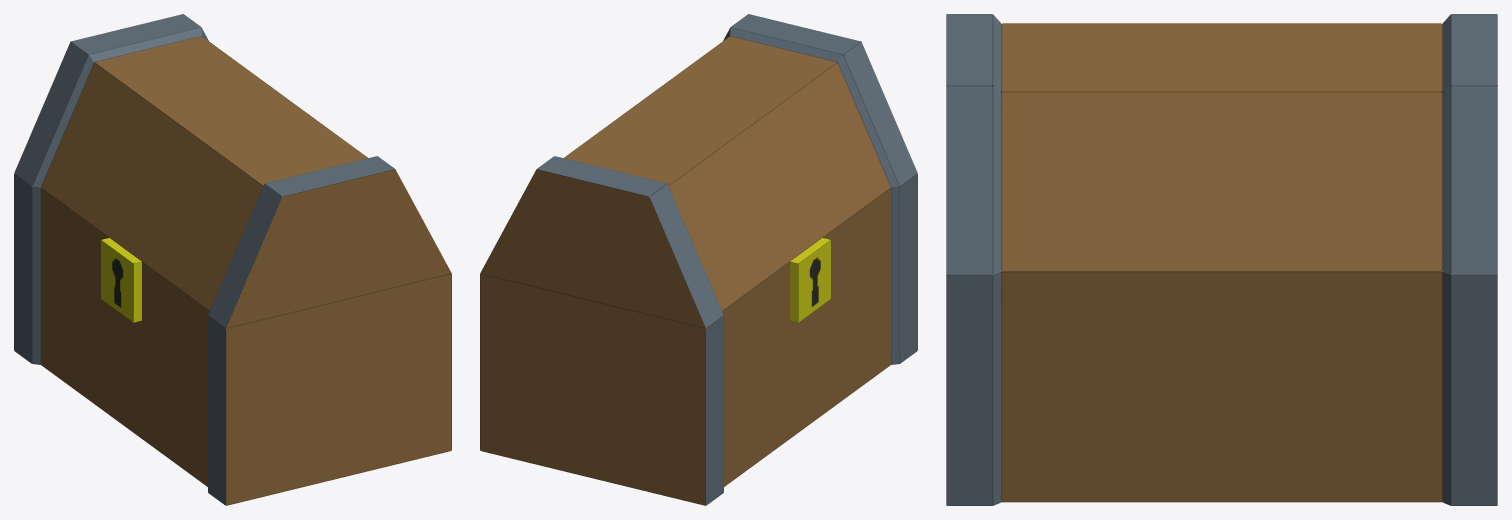
The model's file is Chest.fbx.
3 views of the same model, side by side, from view 1: azimuth 30°, elevation 25°; view 2: azimuth 150°, elevation 25°; view 3: azimuth 270°, elevation 25° (orthographic). The views are drawn at different scales.
Visible parts, largest first — view 1: Lid, Chest; view 2: Lid, Chest; view 3: Lid, Chest.
Part boxes in pixels (bbox=[...]): Lid: bbox=[14, 14, 451, 328]; Chest: bbox=[14, 174, 451, 505]; Lid: bbox=[480, 14, 917, 328]; Chest: bbox=[480, 174, 917, 505]; Lid: bbox=[946, 14, 1497, 275]; Chest: bbox=[946, 271, 1497, 505].
Size of the model in its own units: 50.63 by 62.5 by 81.25.
1 material, 1 textured.
